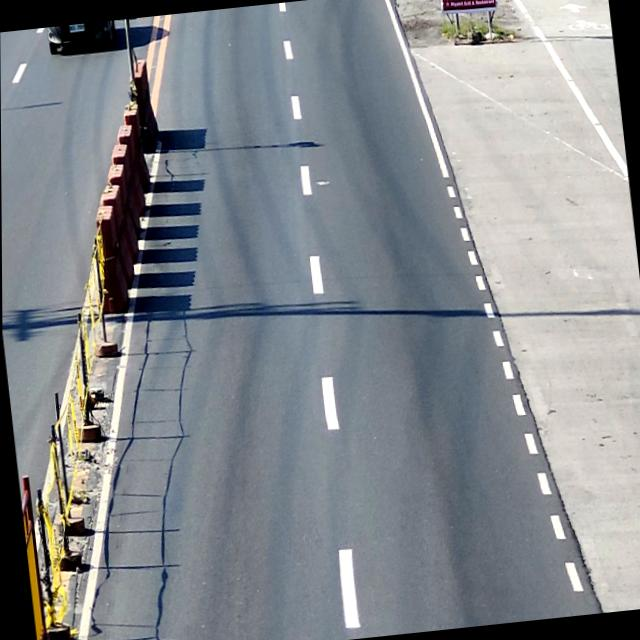Car: (48, 20, 118, 56)
License-Plate: (68, 23, 84, 33)
